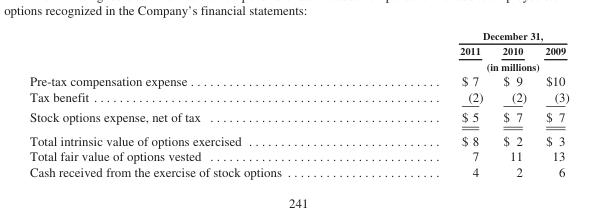table: (28, 29, 568, 178)
table column: (28, 29, 370, 178), (370, 29, 492, 178), (492, 29, 535, 178), (535, 29, 568, 178)
table column header: (28, 29, 568, 72)
table row: (28, 106, 568, 128), (28, 128, 568, 147), (28, 88, 568, 106), (28, 42, 568, 58), (28, 72, 568, 88), (28, 147, 568, 163), (28, 163, 568, 178), (28, 58, 568, 72), (28, 29, 568, 42)
table spanning cell: (370, 58, 568, 72), (370, 29, 568, 42)
